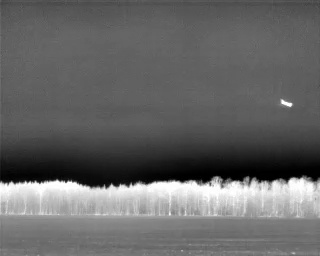DRONE: (276, 95, 296, 111)
